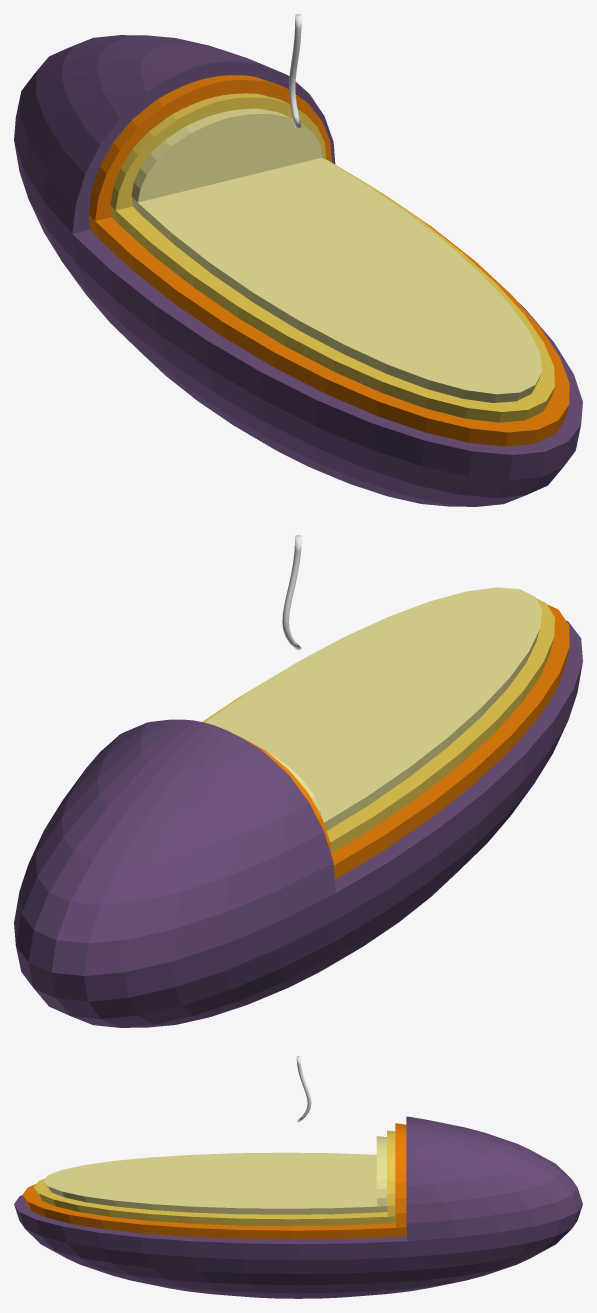
Rendered from bacteriaCell.glb.
The picture shows the model from 3 angles, top to bottom: view 1: azimuth 30°, elevation 25°; view 2: azimuth 150°, elevation 25°; view 3: azimuth 270°, elevation 25°; orthographic projection. The views are drawn at different scales.
Visible parts, largest first — view 1: cytoplasm, capsule, cell.wall, plasma.membrane, BezierCurve; view 2: capsule, cytoplasm, cell.wall, plasma.membrane, BezierCurve; view 3: capsule, cytoplasm, cell.wall, plasma.membrane.
Part boxes in pixels (<box>): cytoplasm: <box>131,108,542,402</box>; capsule: <box>14,35,582,506</box>; cell.wall: <box>88,75,569,446</box>; plasma.membrane: <box>110,93,554,422</box>; BezierCurve: <box>289,14,301,128</box>; capsule: <box>14,620,582,1027</box>; cytoplasm: <box>205,587,542,830</box>; cell.wall: <box>202,604,569,879</box>; plasma.membrane: <box>202,598,554,853</box>; BezierCurve: <box>282,535,301,649</box>; capsule: <box>14,1116,582,1298</box>; cytoplasm: <box>43,1136,387,1214</box>; cell.wall: <box>22,1123,406,1239</box>; plasma.membrane: <box>34,1130,395,1226</box>.
Size of the model in its own units: 2 by 2.71 by 6.
